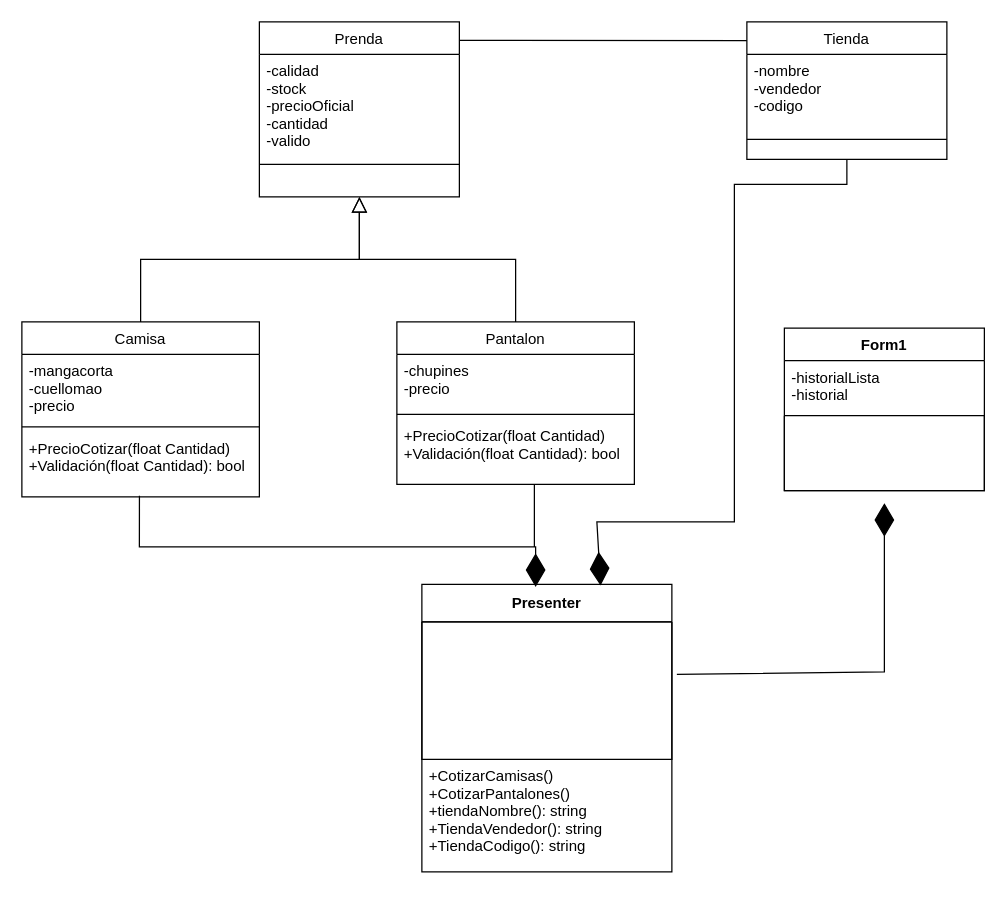
Some shapes in this 1006 by 898 pixel diagram are drawn without their labels. Here are the shapes that lost their labels. From the top down, the centre of each, then its label:
At (883,452): "-IniciarForm1(); -ButtonClick(); -Imprimir()".
At (546,690): "-mangacorta -cuellomao -chupines -precio -validar -cantidad -calidad".
